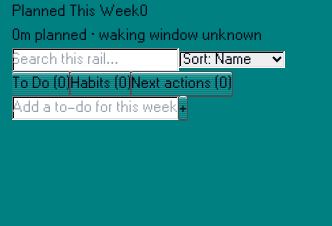
Test: PlannedTasksSidebar › adds a week to-do that Home/To-Do lists for the same week
Type "pack merch" into the field labelled "Add a to-do for this week" at point(96, 108), box [12, 96, 179, 120]
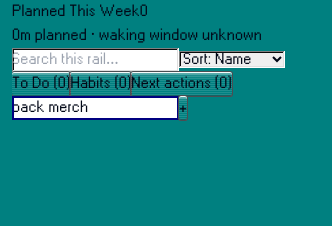
Click the button named "Add to-do" at point(183, 108), box [179, 96, 187, 120]
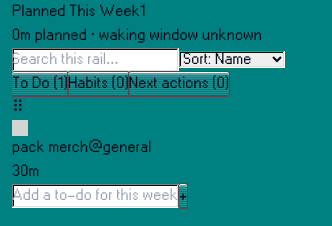
expect the text "pack merch" is shown: met, box [12, 140, 88, 155]
